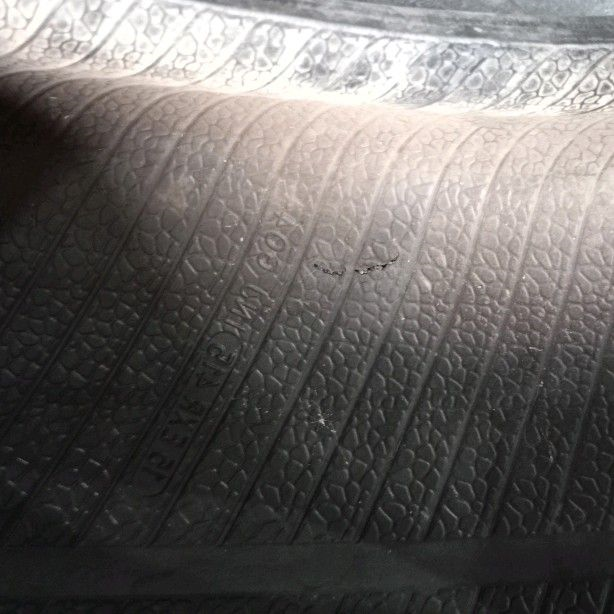CBU: (308, 251, 408, 280)
